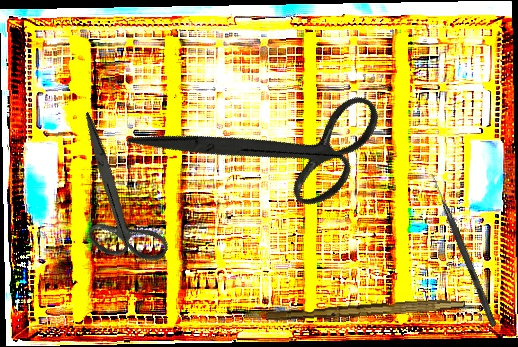Hook Surgical: (427, 172, 499, 328)
Iris Scissors: (125, 19, 405, 274), (24, 110, 206, 284)
Scalpel Handle: (265, 293, 466, 326)
